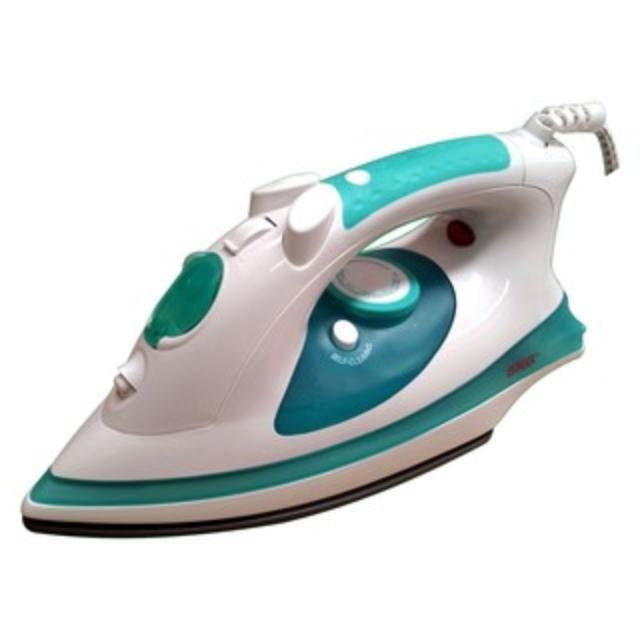Clothes-Iron: (11, 113, 595, 542)
